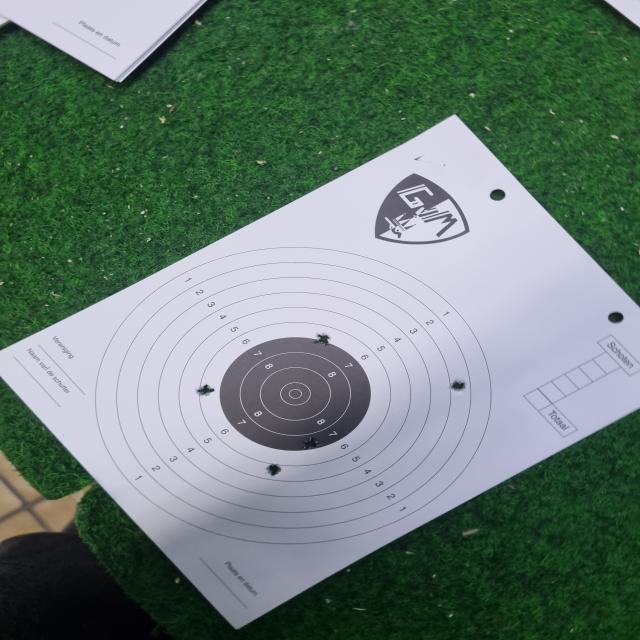3: (448, 380, 466, 392)
5: (266, 464, 281, 477)
6: (195, 384, 215, 397)
7: (313, 333, 331, 346), (302, 437, 320, 450)
Target: (93, 247, 501, 545)
black_contour: (222, 336, 374, 451)
